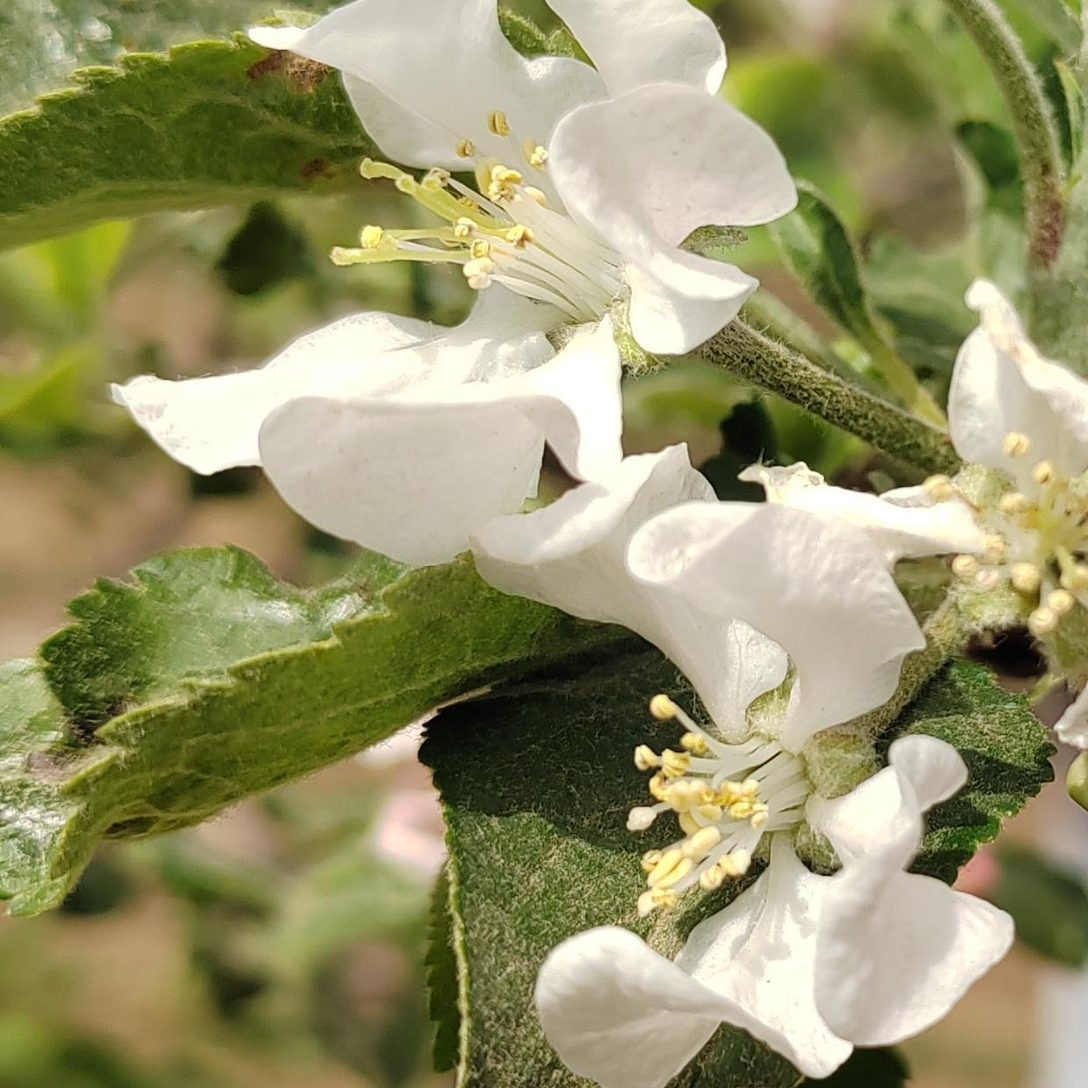apple_flower: (118, 0, 1088, 1088)
